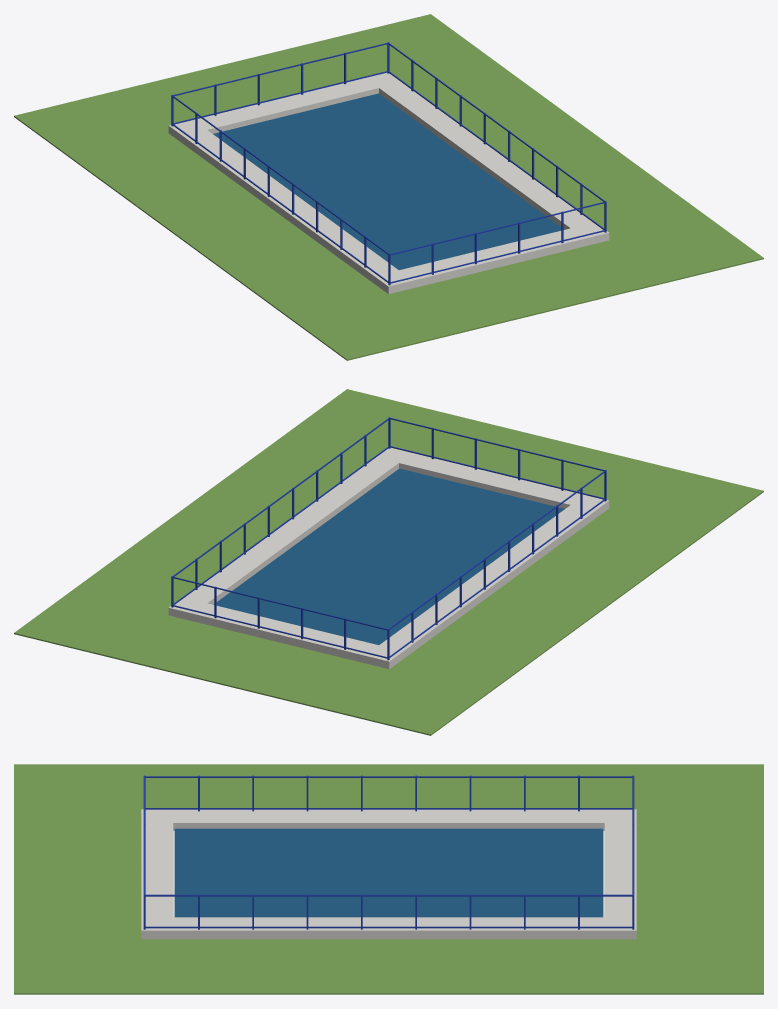
File: piscina.glb
The picture shows the model from 3 angles, top to bottom: view 1: azimuth 30°, elevation 25°; view 2: azimuth 150°, elevation 25°; view 3: azimuth 270°, elevation 25°; orthographic projection. The views are drawn at different scales.
Parts seen in each view (by area): view 1: Piscina; view 2: Piscina; view 3: Piscina.
Boxes of the visible parts, x1,y1,x2,y2 form: Piscina: (14, 14, 763, 360); Piscina: (14, 389, 763, 735); Piscina: (14, 764, 763, 994).
Bounding box in the file's own units: 17.01 × 1.55 × 23.55.
